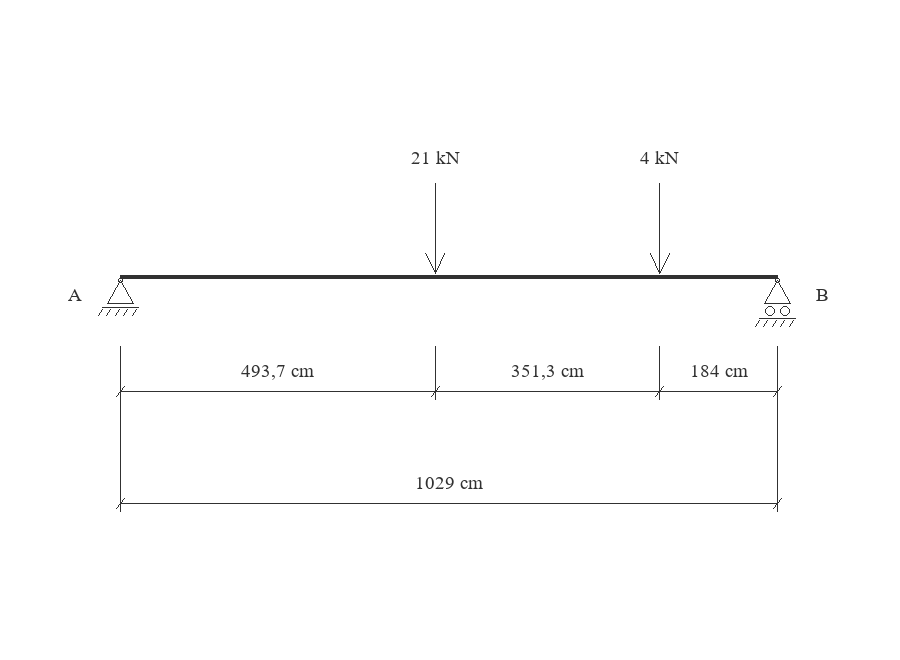pin_support: (98, 278, 139, 316)
point_load: (425, 183, 445, 274), (650, 183, 670, 274)
roller_support: (755, 278, 796, 327)
